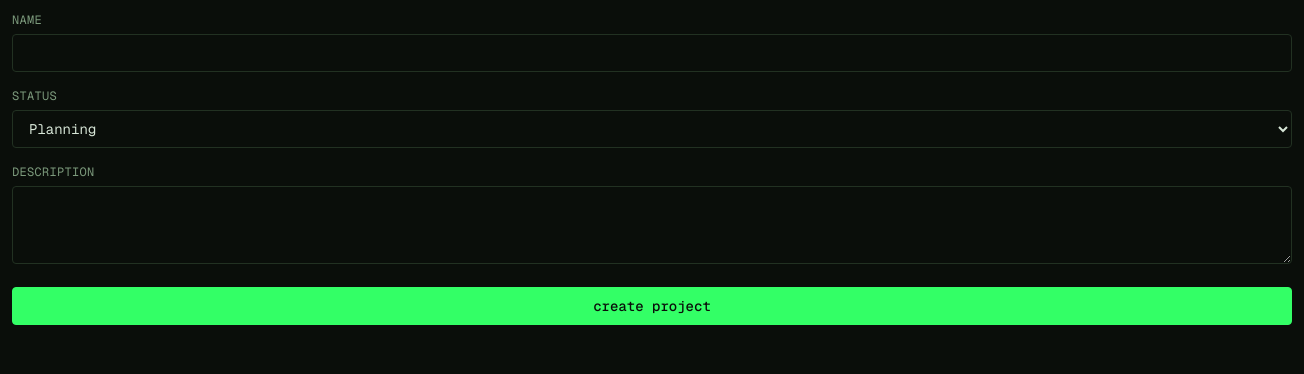
Test: ProjectForm › shows the message the action returns on failure
In the field labelled "Name": (652, 53) 12,34 -> 1292,72, type "New site"
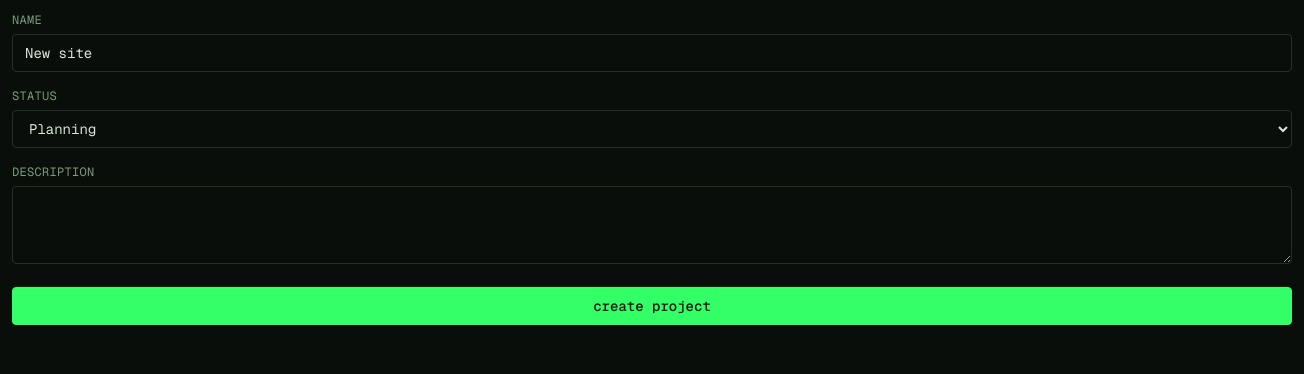
Click the button "create project": (652, 306) 12,287 -> 1292,325
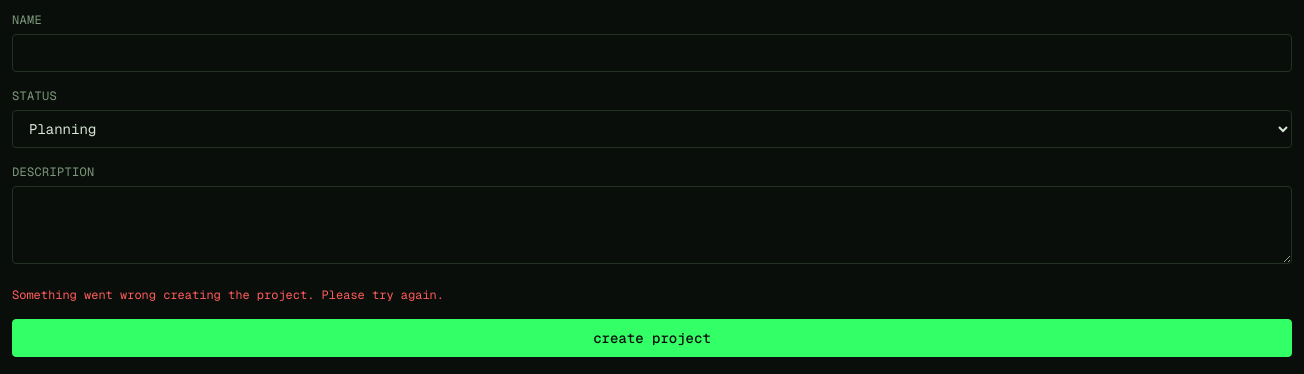
expect the text "Something went wrong creating the project. Please try again." is shown: met, box 12,287 -> 444,303
